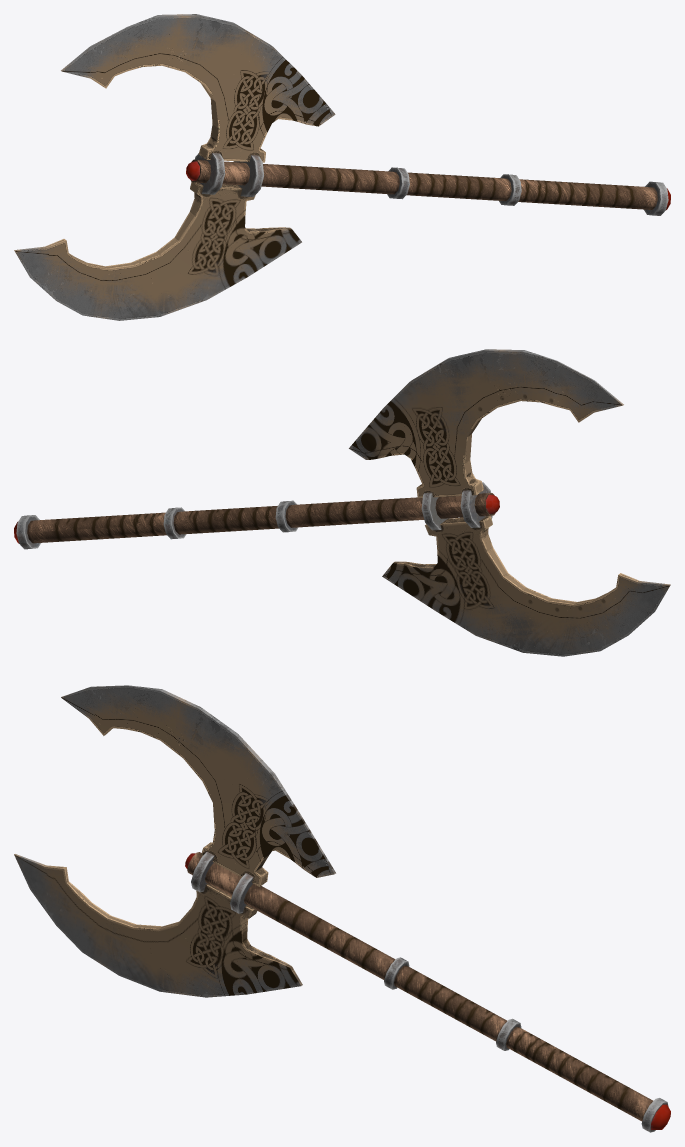
The model's file is BACK_CHIBI_DOUBLE_AXE.fbx.
3 renders of one model, top to bottom at view 1: azimuth 30°, elevation 25°; view 2: azimuth 150°, elevation 25°; view 3: azimuth 330°, elevation 25°, orthographic.
Parts seen in each view (by area): view 1: BACK_CHIBI_DOUBLE_AXE; view 2: BACK_CHIBI_DOUBLE_AXE; view 3: BACK_CHIBI_DOUBLE_AXE.
Part boxes in pixels (x1,y1,x2,y2): BACK_CHIBI_DOUBLE_AXE: (14, 14, 670, 320); BACK_CHIBI_DOUBLE_AXE: (14, 349, 670, 656); BACK_CHIBI_DOUBLE_AXE: (14, 685, 670, 1132).
Bounding box in the file's own units: 0.0978 × 0.0457 × 0.00577.
